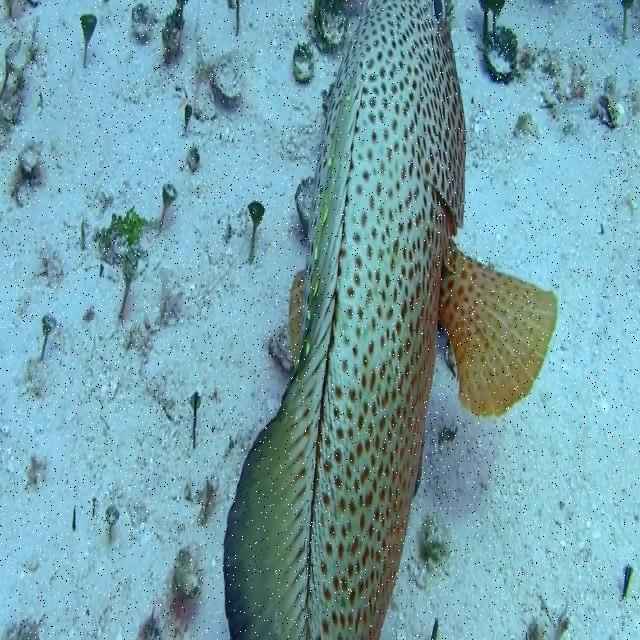fish: (222, 0, 558, 639)
